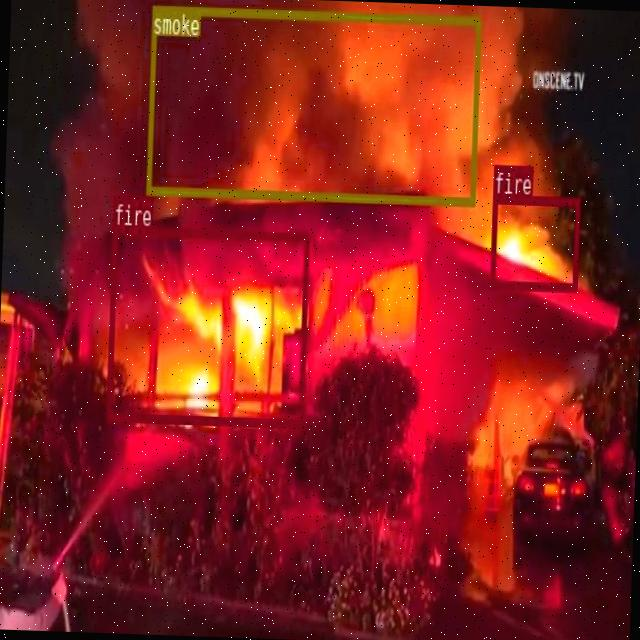fire: (105, 224, 309, 426), (488, 193, 578, 290)
smoke: (146, 4, 480, 204)
